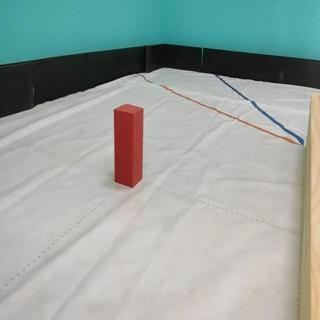redbox: (112, 101, 143, 187)
